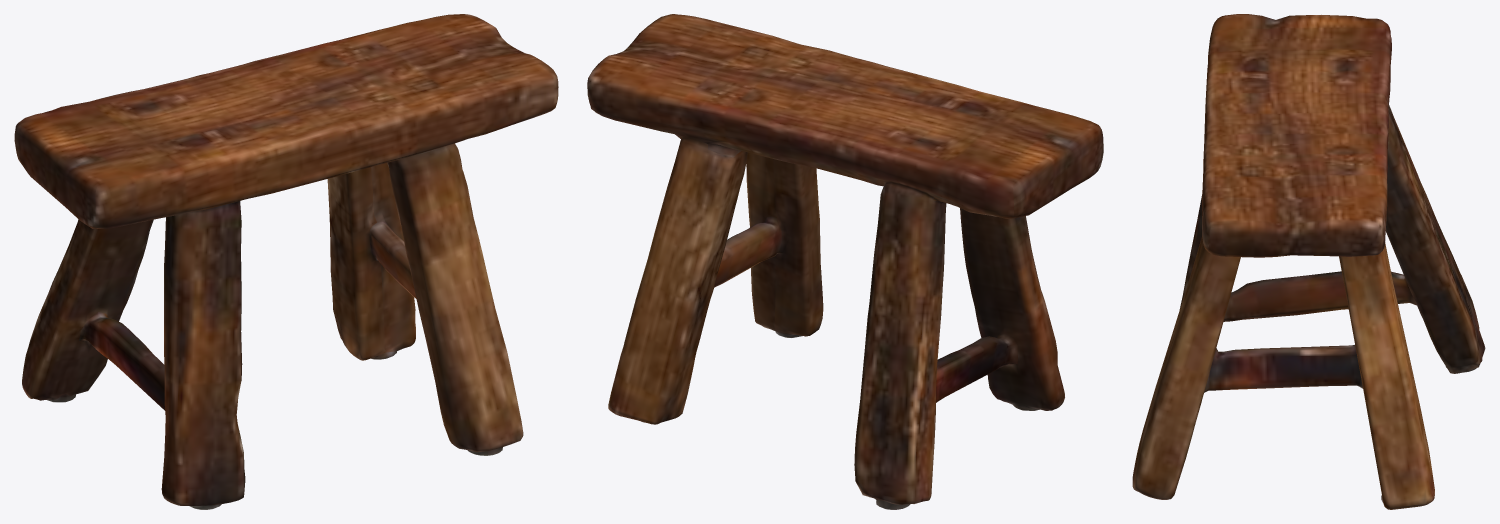
The model's file is stool-wooden-02.lite.a09a2c96.glb.
3 views of the same model, side by side, from view 1: azimuth 30°, elevation 25°; view 2: azimuth 150°, elevation 25°; view 3: azimuth 270°, elevation 25° (orthographic). The views are drawn at different scales.
Visible parts, largest first — view 1: model; view 2: model; view 3: model.
Boxes of the visible parts, x1,y1,x2,y2 form: model: [14, 14, 558, 509]; model: [587, 14, 1103, 509]; model: [1132, 14, 1485, 509].
Bounding box in the file's own units: 0.2652 × 0.1819 × 0.1831.
Materials: 1 (1 with a texture image).
